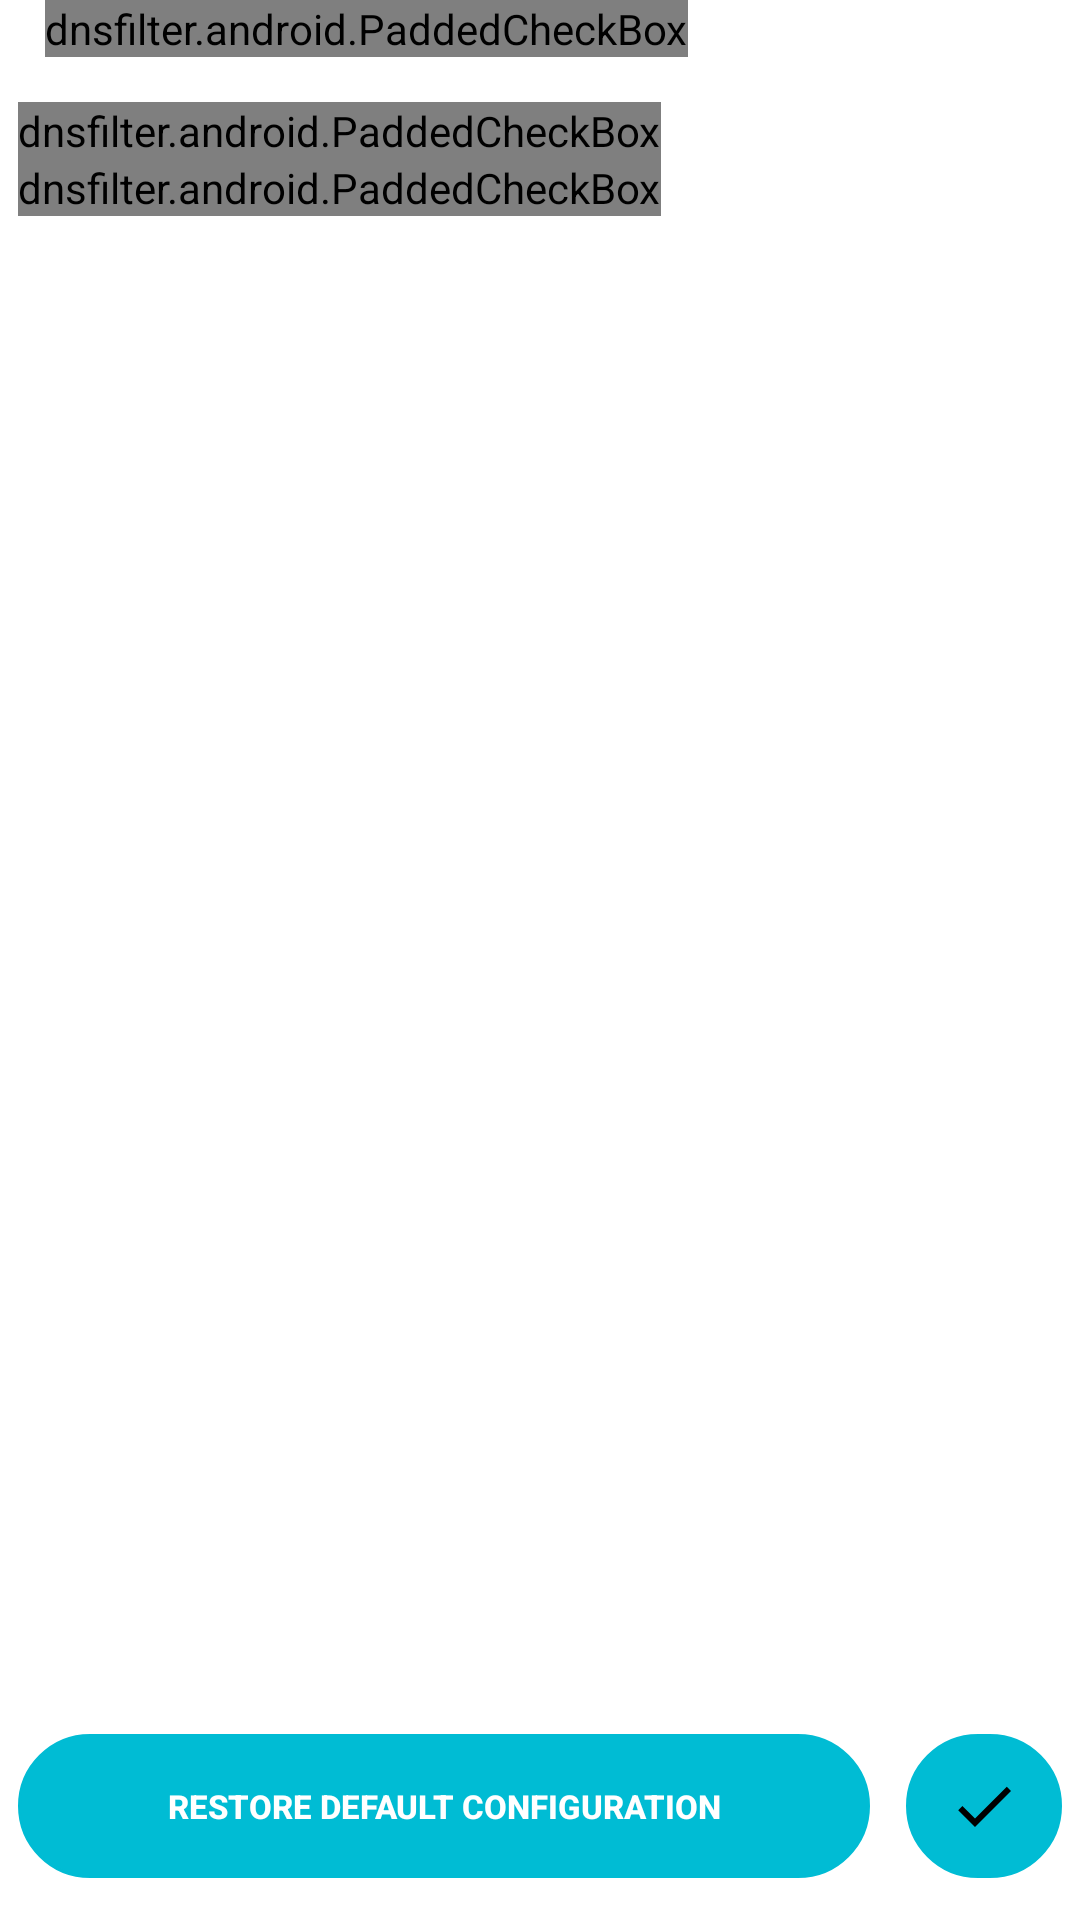

Screen size 1080 × 1920. Icon name, then its box in pixels as (x1,y1,x2,y2):
done: (906,1734,1062,1878)
